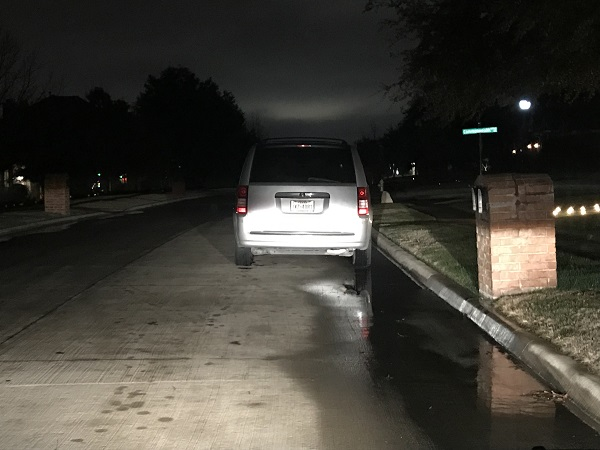car: (235, 137, 373, 270)
